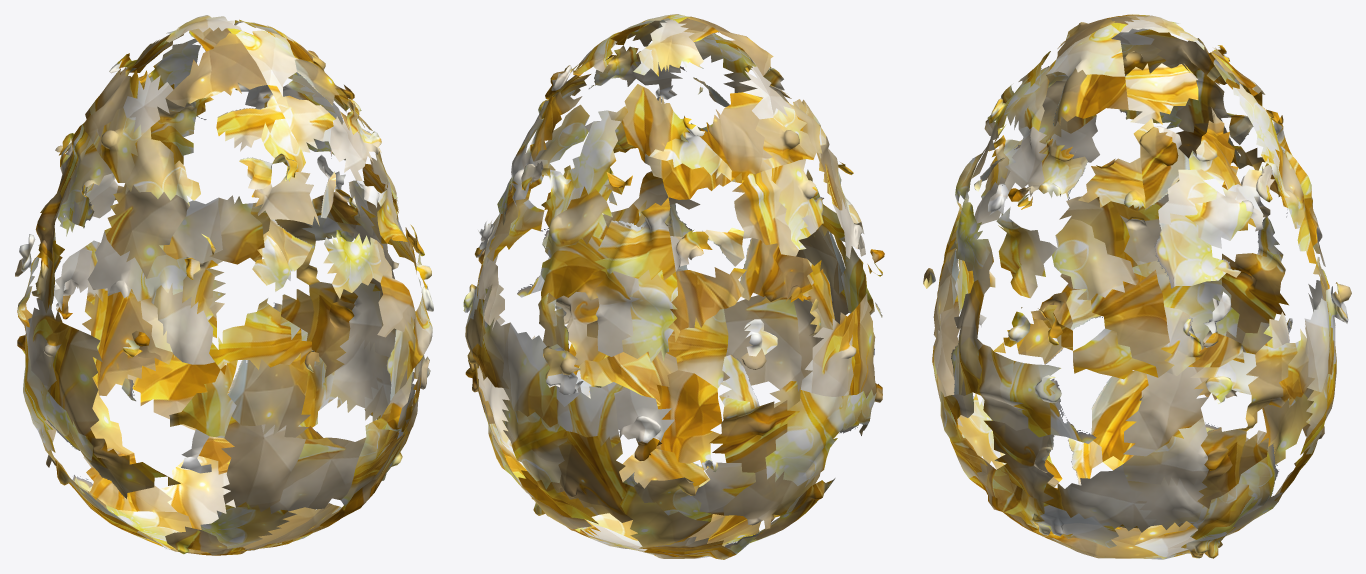
The model's file is bloom_egg.obj.
3 views of the same model, side by side, from view 1: azimuth 30°, elevation 25°; view 2: azimuth 150°, elevation 25°; view 3: azimuth 270°, elevation 25° (orthographic).
Visible parts, largest first — view 1: bloom_egg; view 2: bloom_egg; view 3: bloom_egg.
Part boxes in pixels (box(x1,y1,x2,y2)): bloom_egg: box(15, 15, 433, 555); bloom_egg: box(463, 14, 884, 559); bloom_egg: box(923, 14, 1351, 559).
Bounding box in the file's own units: 1.39 × 1.91 × 1.44.
